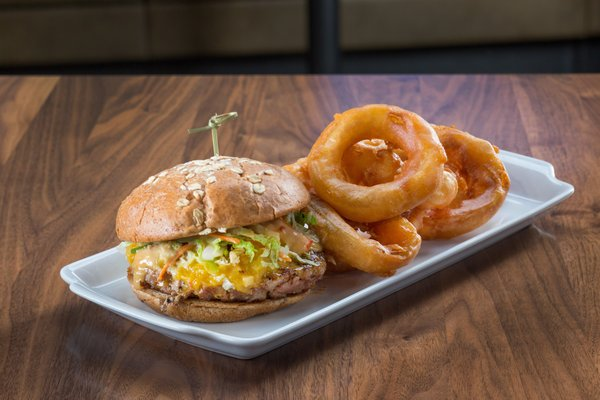soup: (285, 102, 513, 275), (115, 156, 327, 324)
